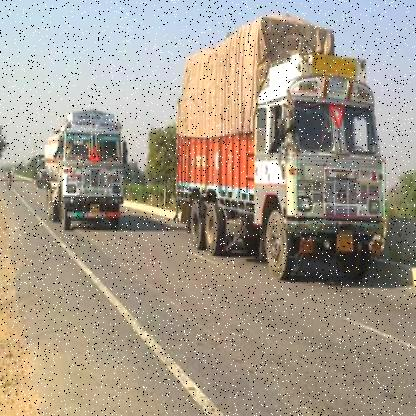truck: (167, 5, 395, 288), (34, 99, 136, 237)
